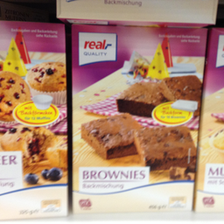cake: (70, 23, 209, 222), (1, 20, 66, 219)
